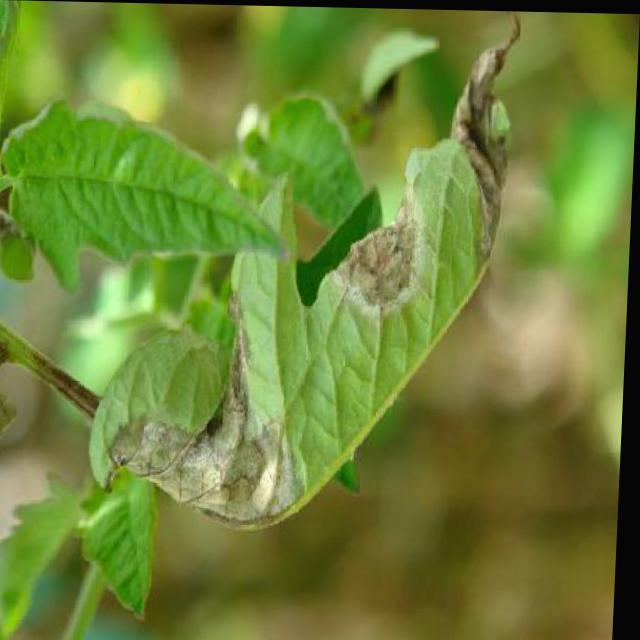Tomato mosaic virus leaf: (88, 14, 548, 545), (12, 34, 339, 360)
